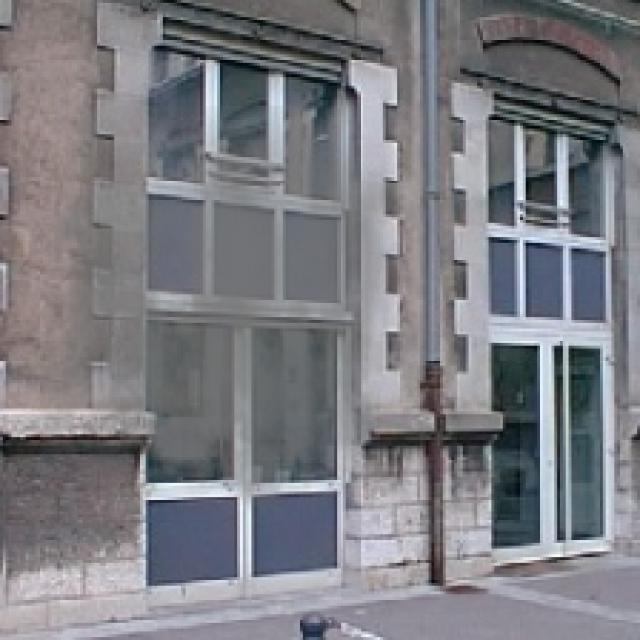smoke: (40, 106, 394, 526)
